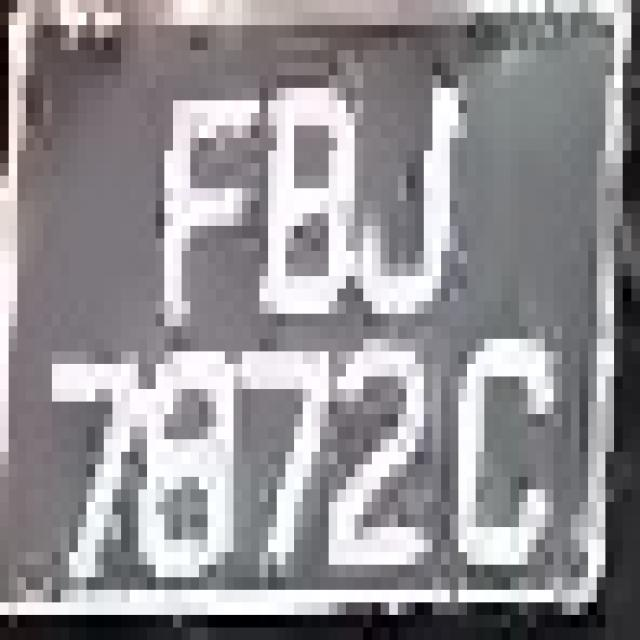2: (294, 302, 441, 602)
7: (9, 301, 138, 615), (216, 326, 346, 590)
8: (112, 352, 251, 602)
B: (233, 63, 372, 351)
C: (458, 314, 571, 615)
F: (138, 51, 260, 352)
J: (355, 50, 493, 364)
